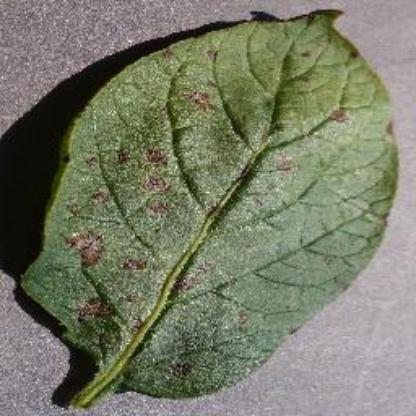Early-Blight: (16, 6, 402, 410)
